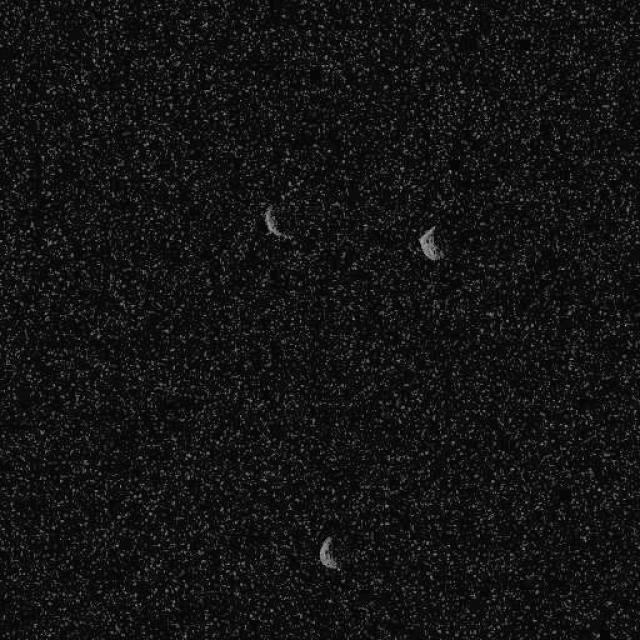D2: (262, 202, 292, 242), (416, 224, 444, 261), (316, 534, 340, 571)
